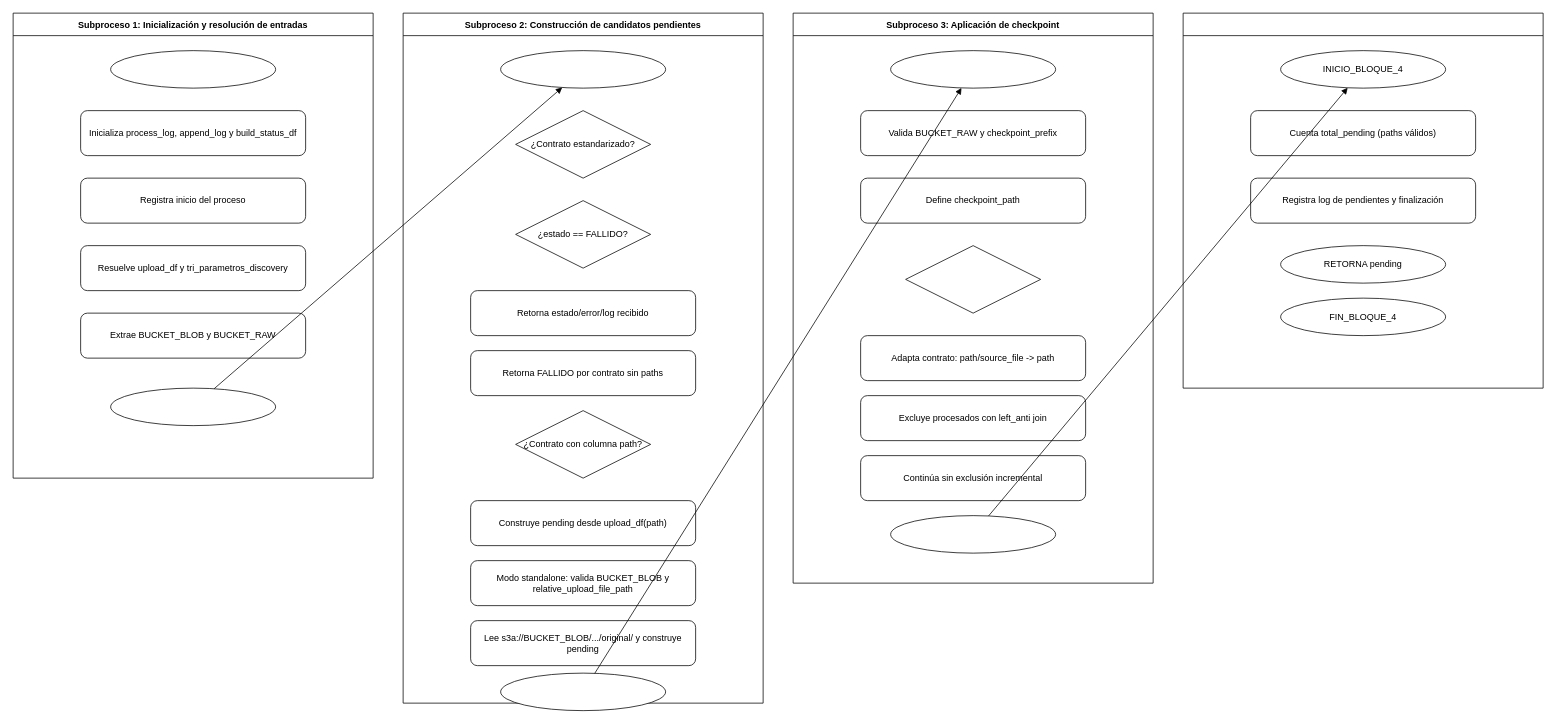
Image size: 1556x724. Some labels were removed from this diagram. The box of each missing label's shape, as (x1, y1, x2, y2) in pixels:
FIN_BLOQUE_1: (110, 387, 276, 426)
FIN_BLOQUE_2: (500, 672, 666, 711)
FIN_BLOQUE_3: (890, 515, 1056, 553)
INICIO_BLOQUE_1: (110, 50, 276, 88)
INICIO_BLOQUE_2: (500, 50, 666, 88)
INICIO_BLOQUE_3: (890, 50, 1056, 88)
Subproceso 4: Cierre y retorno: (1182, 12, 1543, 388)
¿Lectura parquet checkpoint OK?: (905, 245, 1041, 313)
